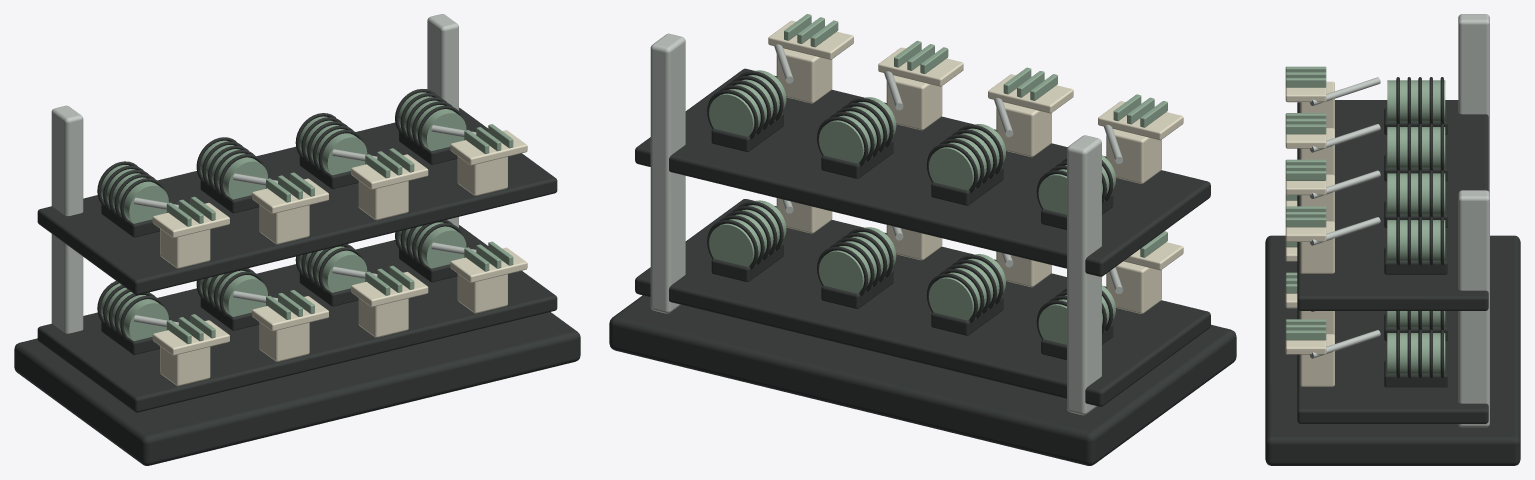
Rendered from abandoned-telephone-exchange-relay-bank-e0fe853e__31999.glb.
The picture shows the model from 3 angles, left to right: view 1: azimuth 30°, elevation 25°; view 2: azimuth 150°, elevation 25°; view 3: azimuth 270°, elevation 25°; orthographic projection. The views are drawn at different scales.
Parts seen in each view (by area): view 1: relay-bank; view 2: relay-bank; view 3: relay-bank.
Boxes of the visible parts, left/top/right/bottom form: relay-bank: left=14, top=14, right=580, bottom=465; relay-bank: left=609, top=14, right=1236, bottom=465; relay-bank: left=1265, top=14, right=1520, bottom=465.
Bounding box in the file's own units: 0.84 × 0.495 × 0.4401.
